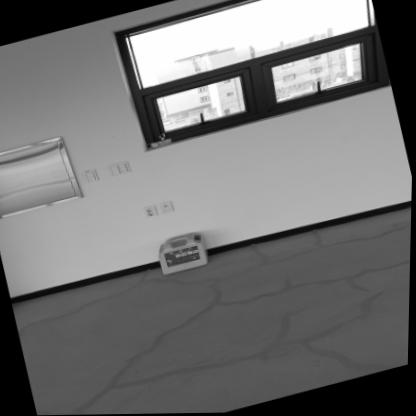DDL: (156, 229, 211, 276)
